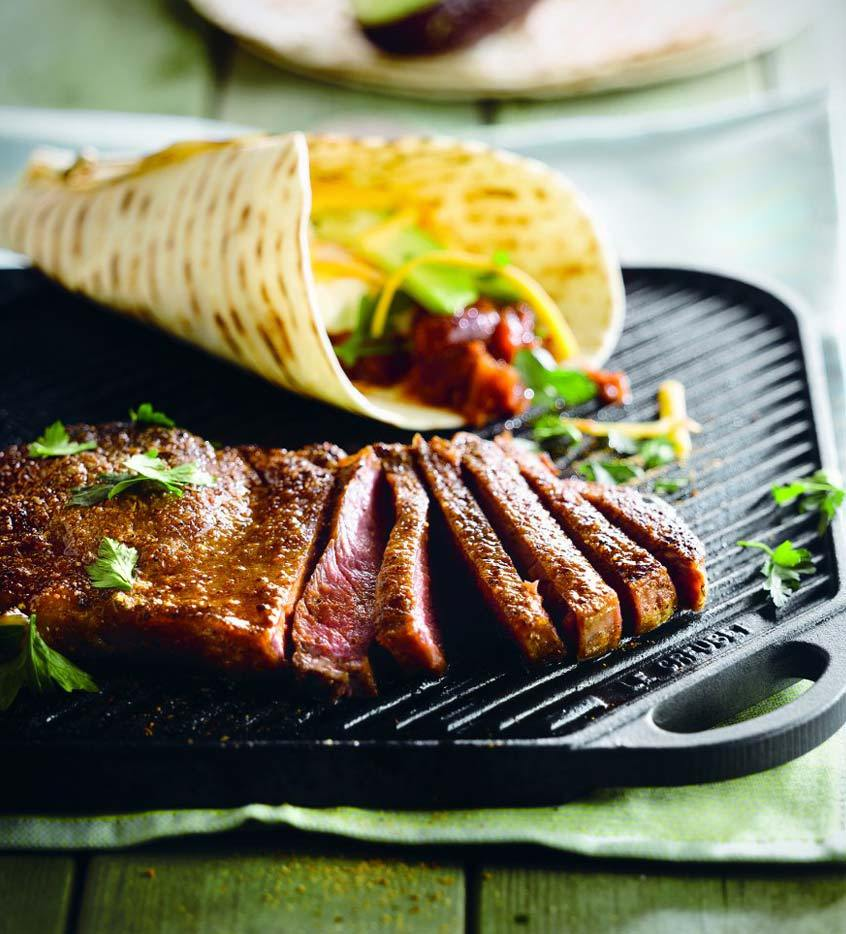cheese: (568, 371, 702, 460)
